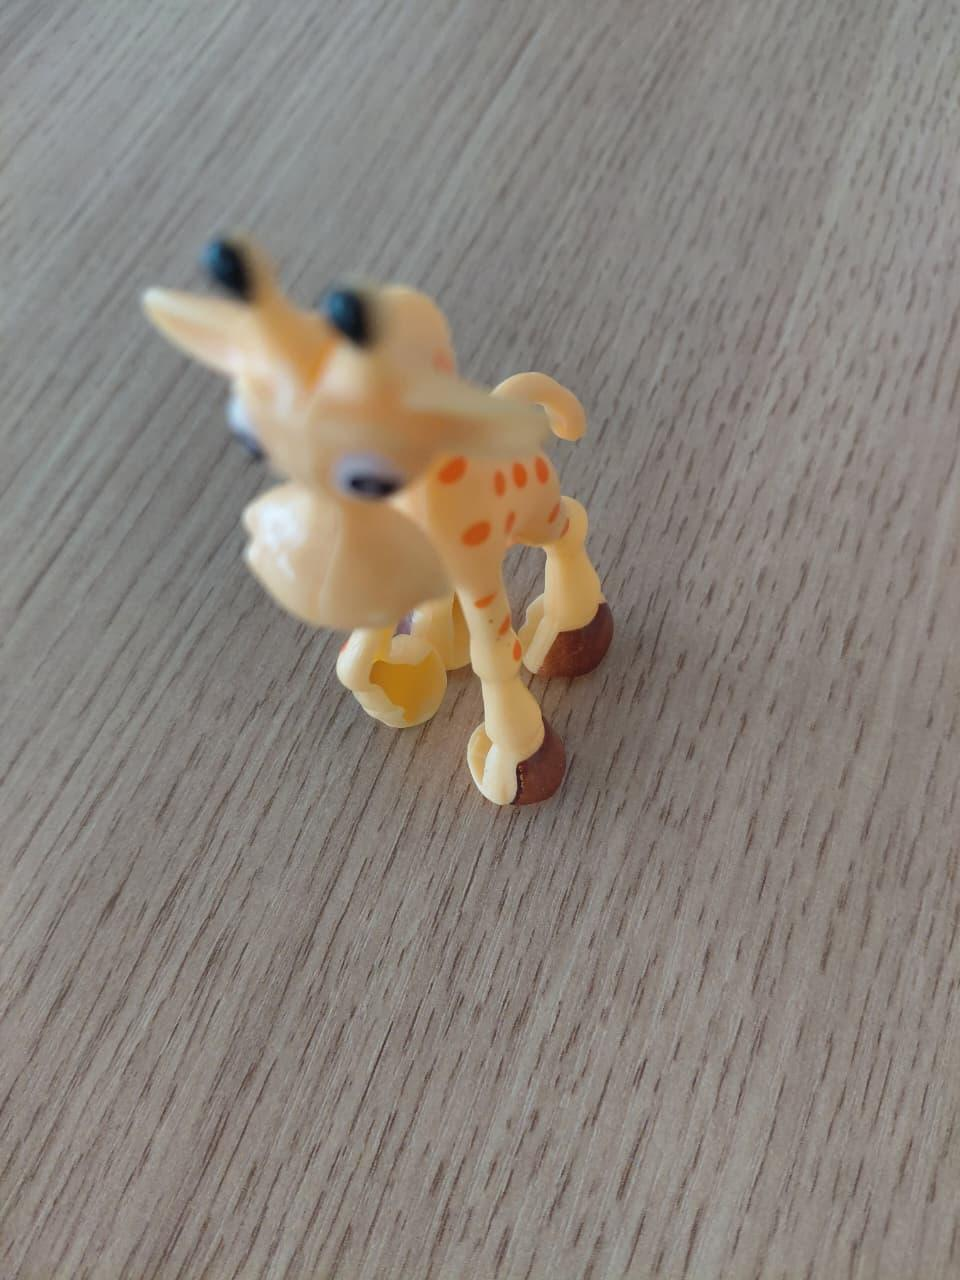giraffe: (110, 188, 682, 863)
